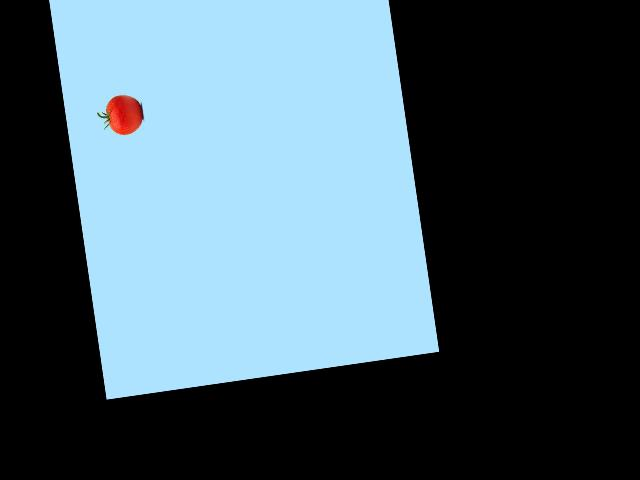tomato: (104, 93, 144, 137)
